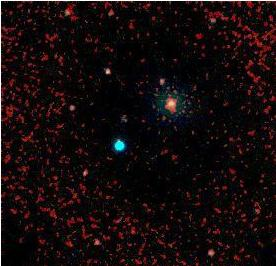star: (155, 85, 185, 115)
